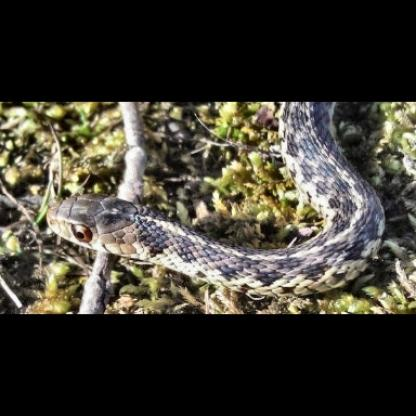Snake: (32, 148, 415, 307)
